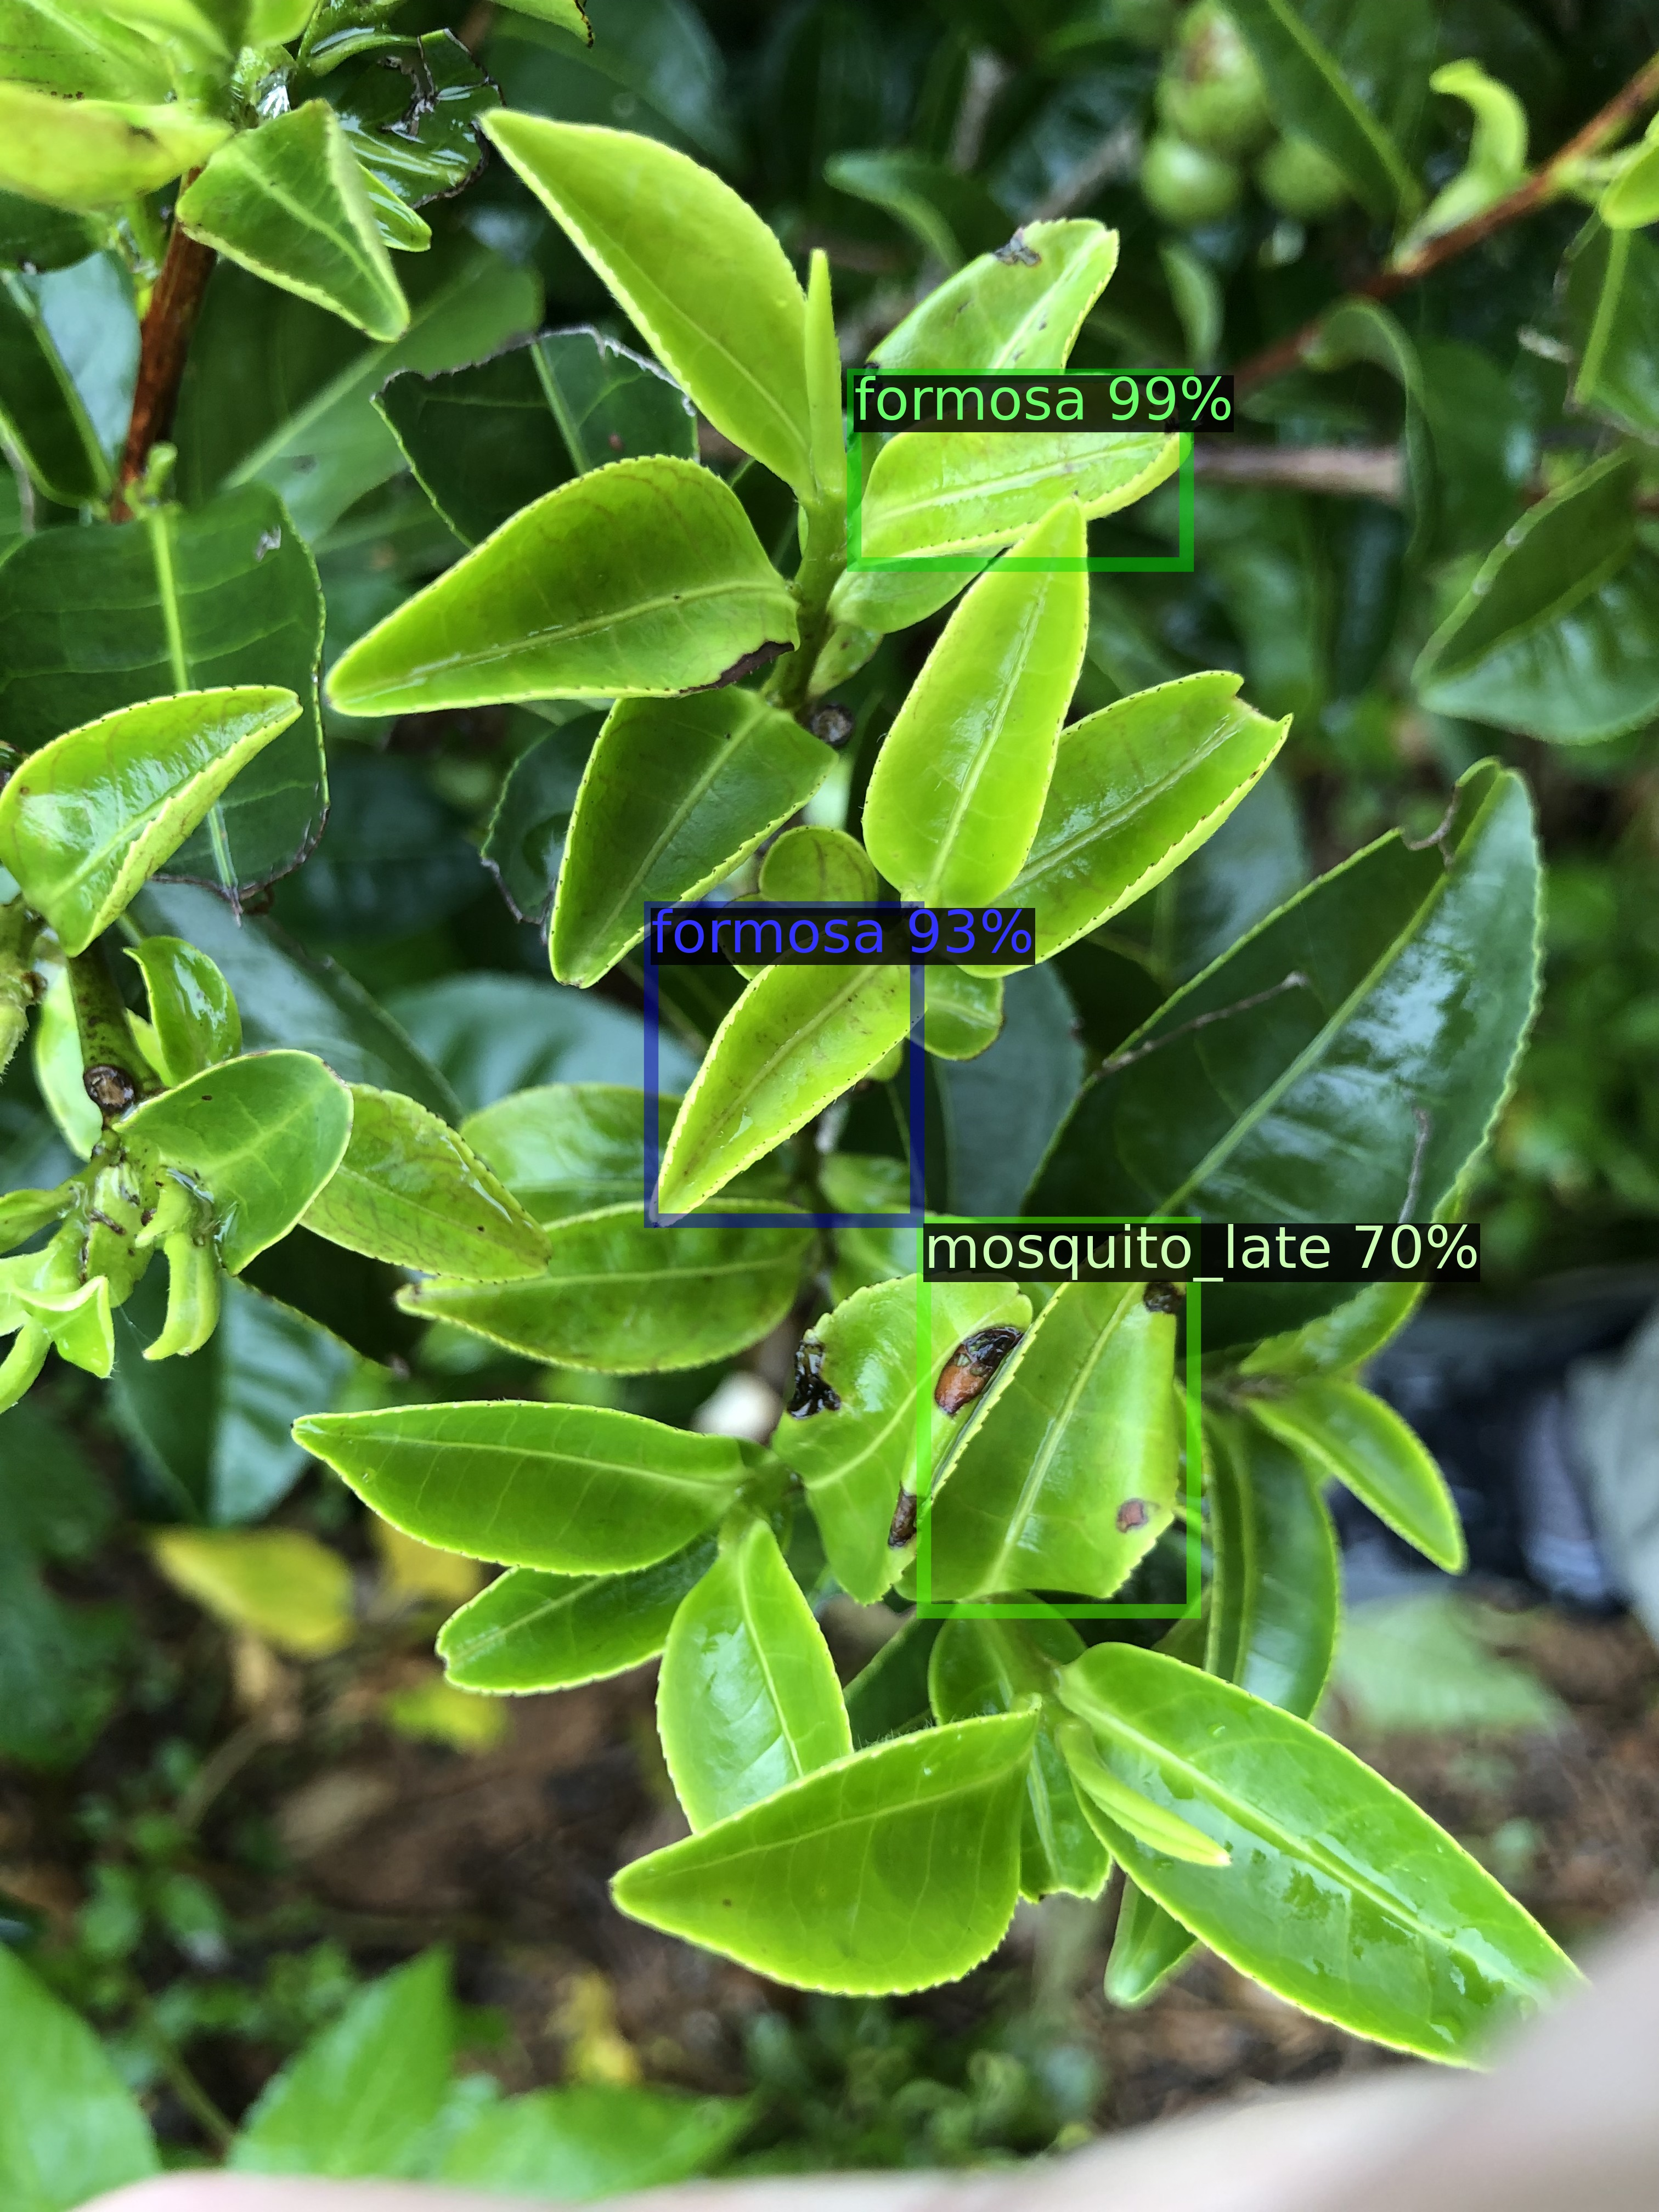formosa: (652, 909, 917, 1221), (854, 376, 1187, 564)
mosquito_late: (924, 1223, 1194, 1611)
